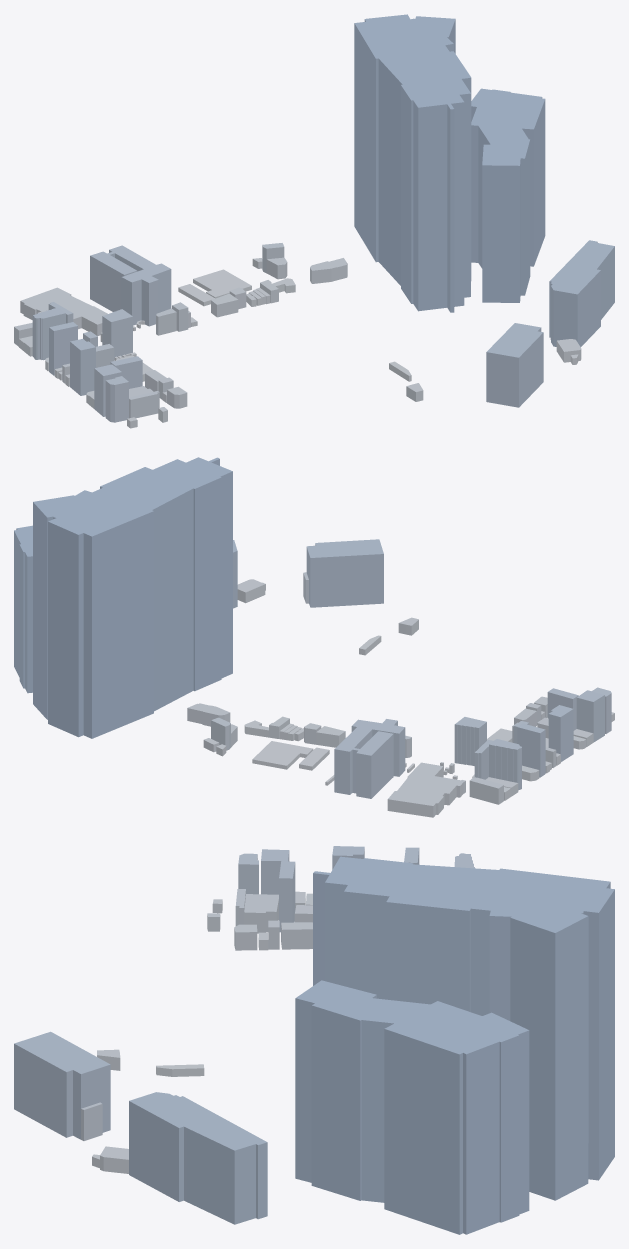
3 renders of one model, top to bottom at view 1: azimuth 30°, elevation 25°; view 2: azimuth 150°, elevation 25°; view 3: azimuth 270°, elevation 25°, orthographic. The views are drawn at different scales.
Size of the model in its own units: 485 by 182 by 371.
